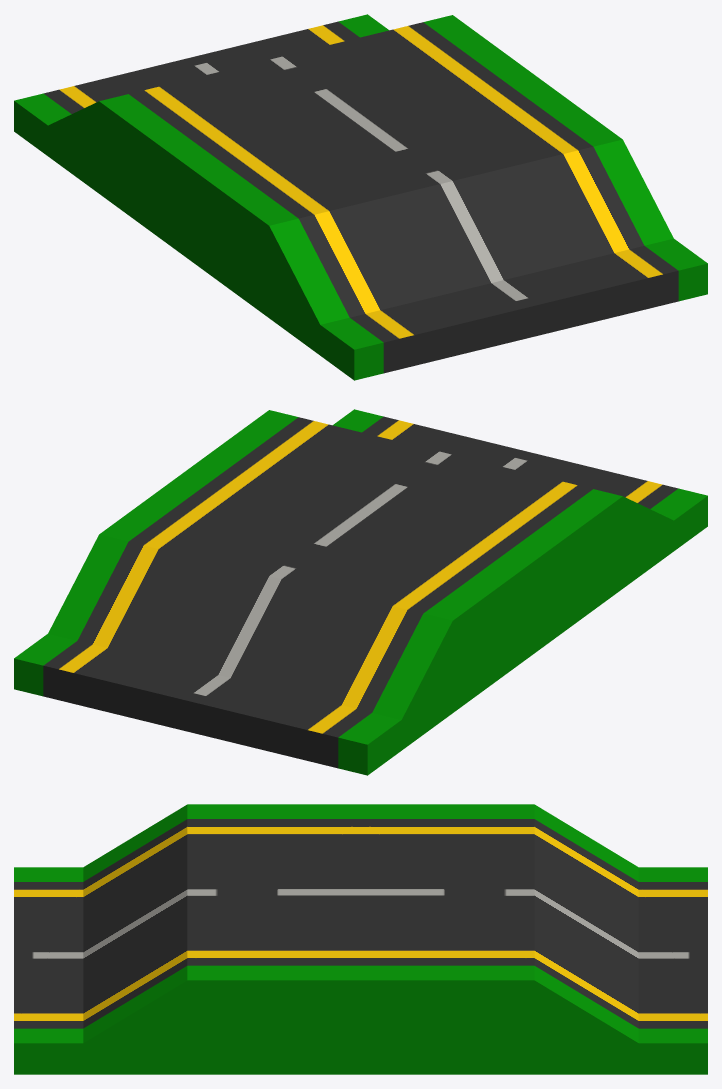
The model's file is Track02.fbx.
The picture shows the model from 3 angles, top to bottom: view 1: azimuth 30°, elevation 25°; view 2: azimuth 150°, elevation 25°; view 3: azimuth 270°, elevation 25°; orthographic projection.
Visible parts, largest first — view 1: Track2; view 2: Track2; view 3: Track2.
Boxes of the visible parts, bbox=[...] form: Track2: bbox=[14, 14, 707, 380]; Track2: bbox=[14, 409, 707, 775]; Track2: bbox=[14, 804, 707, 1074].
Size of the model in its own units: 1200 by 300 by 2000.
